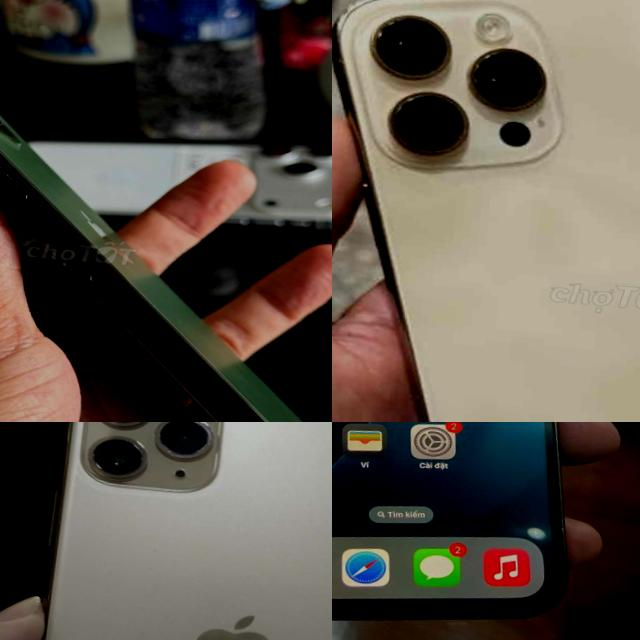gen_11: (0, 422, 332, 640)
gen_12_13: (0, 0, 332, 422), (332, 422, 604, 640)
gen_16: (332, 0, 640, 422)
